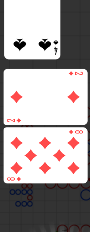4C: (53, 38, 60, 56)
8D: (68, 128, 84, 135)
